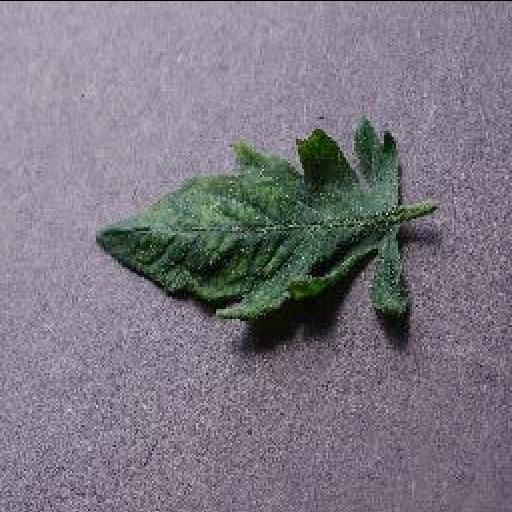Mosaic Virus: (89, 114, 419, 328)
